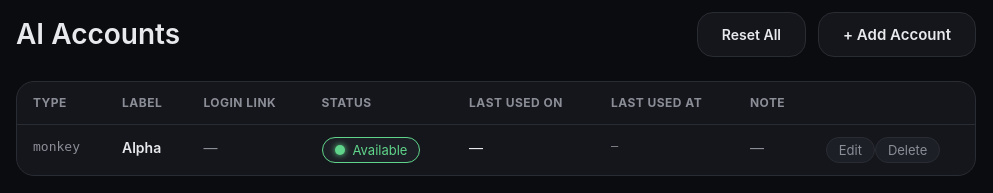
Test: Route /accounts — AccountsList › toggles status via the manual toggle button
This screenshot has width=993, height=193.
Step 1. Click the button with aria-label "Mark Alpha as limit reached" → (371, 150), box [322, 137, 420, 163]
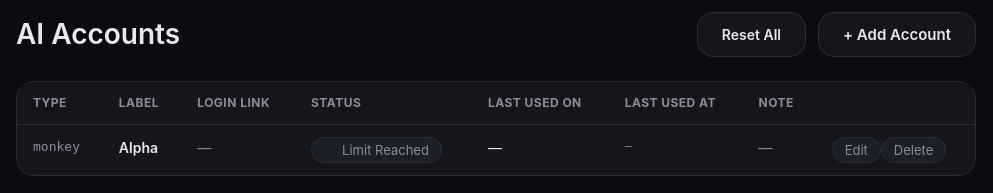
Check: the button with aria-label "Mark Alpha as available" is shown, box [311, 137, 442, 163]
Check: the text "Limit Reached" is shown, box [342, 142, 429, 158]
